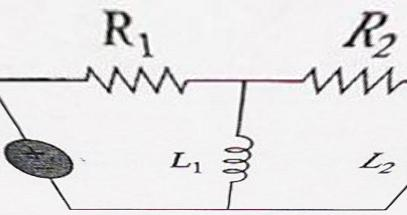inductor: (221, 119, 258, 190)
